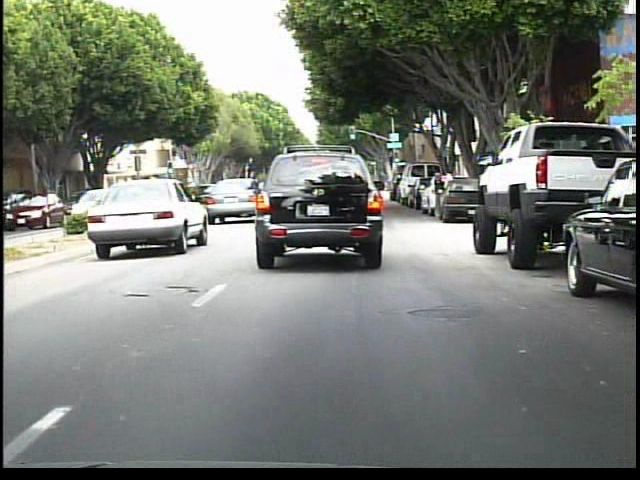person: (439, 166, 456, 215), (432, 174, 448, 222)
